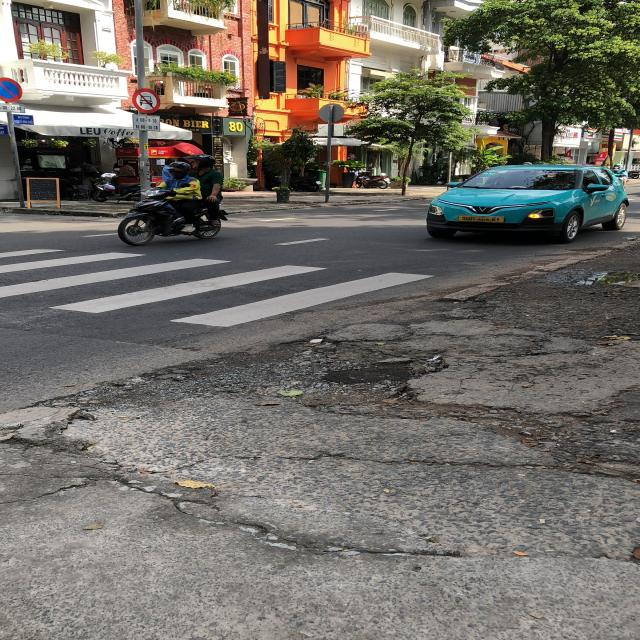Bien bao cam do xe: (0, 76, 25, 105)
Bien bao cam xe oto: (130, 84, 164, 115)
